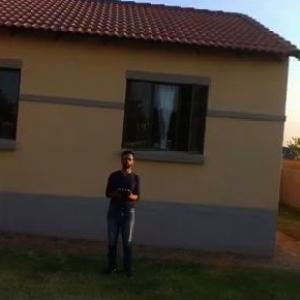follow: (98, 146, 144, 285)
